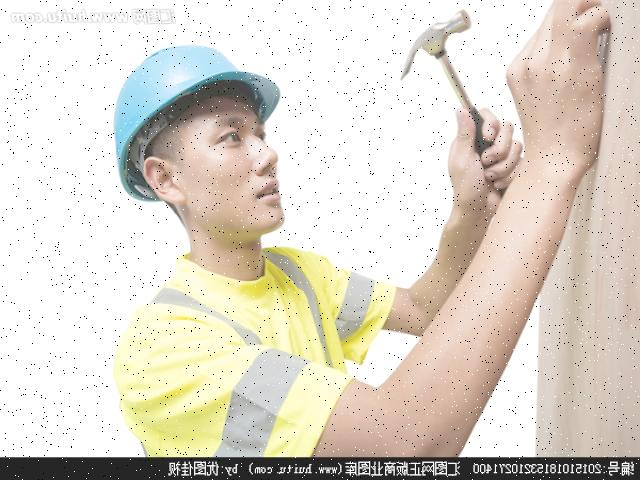Helmet: (111, 38, 289, 208)
